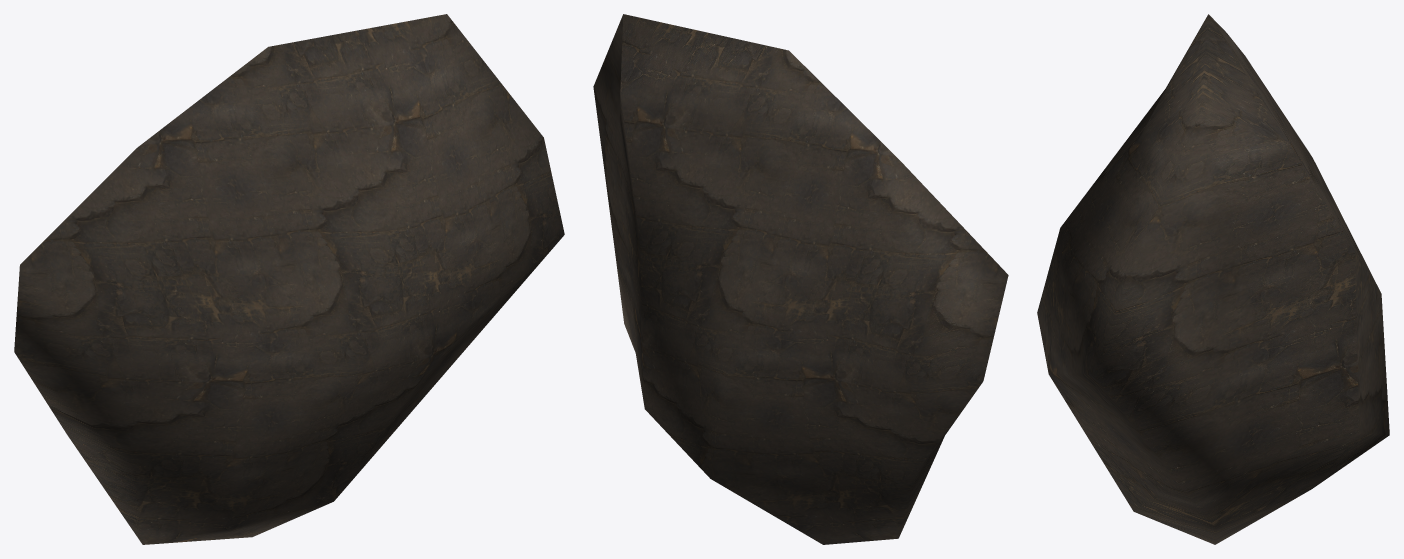
File: cliff_buttress_b_lod3.gltf
The picture shows the model from 3 angles, left to right: view 1: azimuth 30°, elevation 25°; view 2: azimuth 150°, elevation 25°; view 3: azimuth 270°, elevation 25°; orthographic projection. The views are drawn at different scales.
Visible parts, largest first — view 1: cliff_buttress_b_LOD3; view 2: cliff_buttress_b_LOD3; view 3: cliff_buttress_b_LOD3.
Part boxes in pixels (bbox=[...]): cliff_buttress_b_LOD3: bbox=[14, 14, 564, 544]; cliff_buttress_b_LOD3: bbox=[593, 14, 1008, 544]; cliff_buttress_b_LOD3: bbox=[1037, 14, 1389, 544].
Size of the model in its own units: 20.64 by 20 by 11.89.
Materials: 1 (1 with a texture image).
